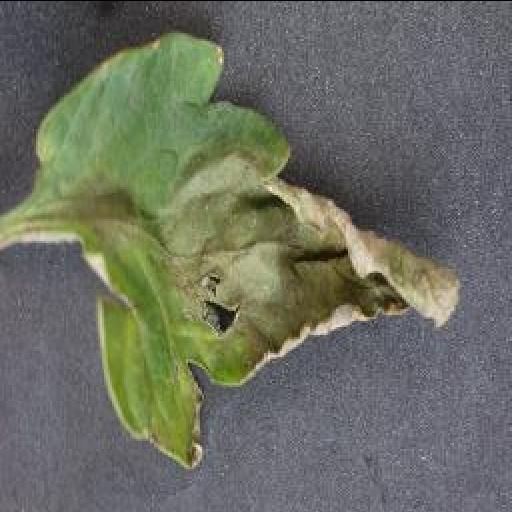disease_tomato: (34, 30, 460, 466)
